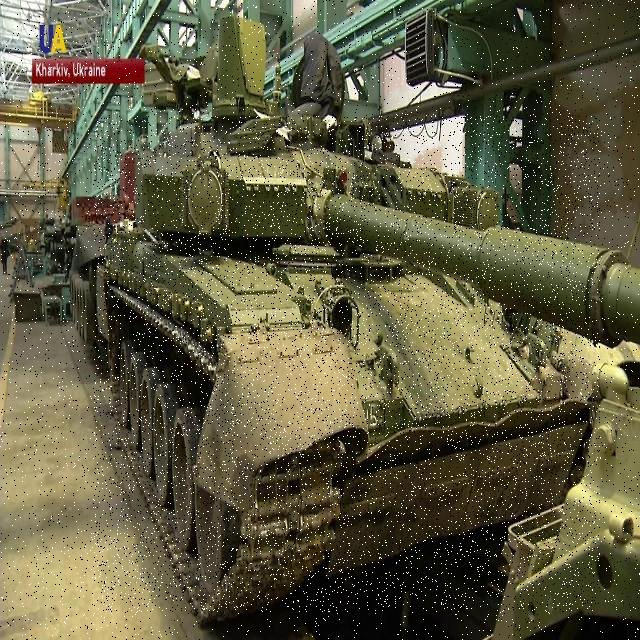MIL_MBT: (94, 116, 600, 612)
